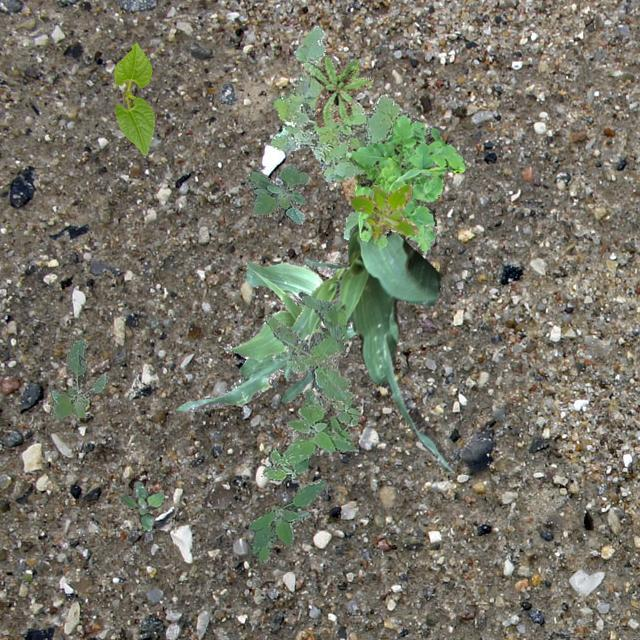crop: (334, 220, 454, 472), (176, 262, 354, 411), (284, 256, 344, 380), (114, 43, 154, 154)
weed: (270, 24, 428, 240), (346, 112, 464, 254), (264, 291, 354, 404), (262, 388, 360, 480), (248, 478, 324, 562), (300, 54, 372, 126), (48, 338, 108, 418), (350, 182, 418, 240), (246, 164, 308, 224), (118, 480, 164, 530)
